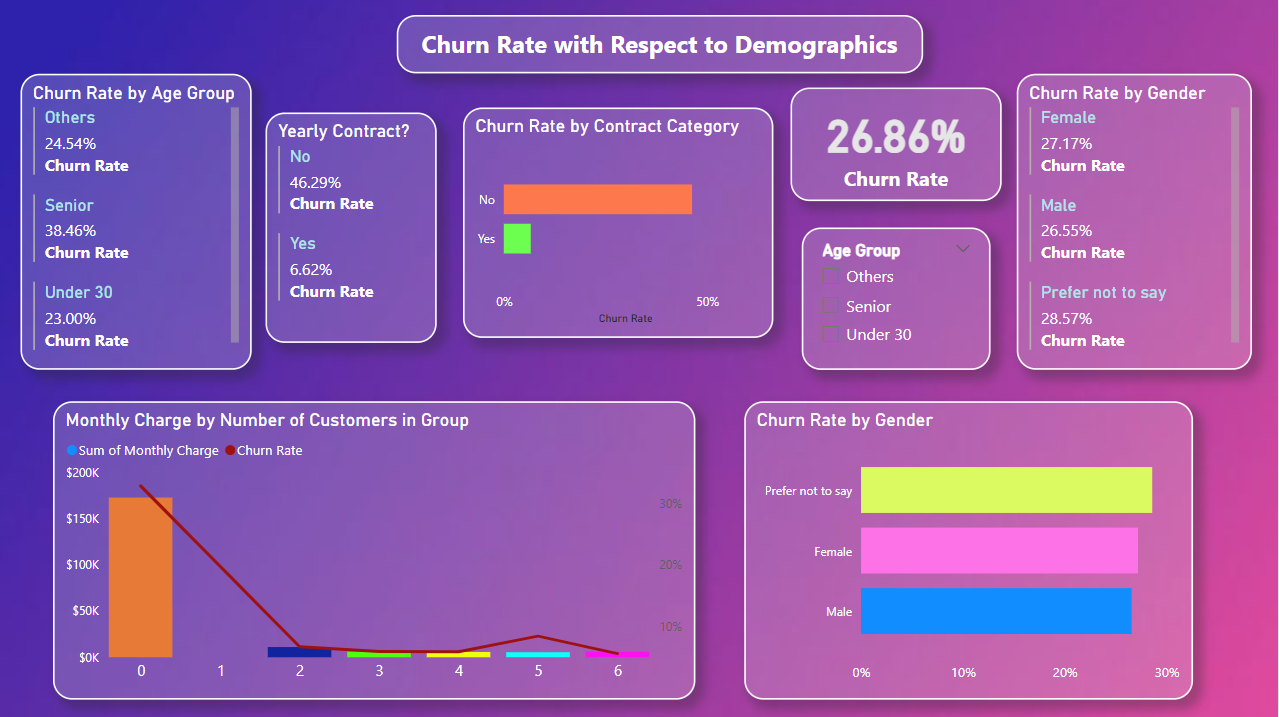

The page's visual inventory and layout, read from the dashboard file:
{"tool":"powerbi","page":{"name":"Demographics","canvas":[1280,720],"ordinal":1},"visuals":[{"type":"slicer","fields":{"Values":["Data.Demagraphic"]},"box":[803.8,227.5,188.8,142.5],"z":0},{"type":"card","fields":{"Values":["Table.Churn Rate"]},"box":[792.5,87.5,211.2,113.8],"z":1000},{"type":"lineStackedColumnComboChart","title":"Monthly Charge by Number of Customers in Group","fields":{"Category":["Data.Number of Customers in Group"],"Y":["Sum(Data.Monthly Charge)"],"Y2":["Table.Churn Rate"]},"box":[55,401.2,642.5,298.8],"z":2000},{"type":"multiRowCard","title":"Yearly Contract?","fields":{"Values":["Data.Contract Category","Table.Churn Rate"]},"box":[267.5,112.5,171.2,230],"z":3000},{"type":"multiRowCard","title":"Churn Rate by Gender","fields":{"Values":["Data.Gender","Table.Churn Rate"]},"box":[1018.8,73.8,235,296.2],"z":4000},{"type":"clusteredBarChart","fields":{"Y":["Table.Churn Rate"],"Category":["Data.Contract Category"]},"box":[465,107.5,310,230],"z":5000},{"type":"clusteredBarChart","fields":{"Y":["Table.Churn Rate"],"Category":["Data.Gender"]},"box":[746.2,401.2,448.8,298.8],"z":6000},{"type":"multiRowCard","title":"Churn Rate by Age Group","fields":{"Values":["Data.Demagraphic","Table.Churn Rate"]},"box":[22.5,73.8,231.2,296.2],"z":7000},{"type":"textbox","box":[398.8,15,526.2,58.8],"z":8000}]}

Visuals, with their boxes in screenshot pixels (x1, y1, x2, y2), scaled from the page's 1280x720 canvas onto the 1279x717 screenshot:
slicer - Data.Demagraphic: l=803, t=227, r=992, b=368
card - Table.Churn Rate: l=792, t=87, r=1003, b=200
"Monthly Charge by Number of Customers in Group" lineStackedColumnComboChart: l=55, t=400, r=697, b=697
"Yearly Contract?" multiRowCard: l=267, t=112, r=438, b=341
"Churn Rate by Gender" multiRowCard: l=1018, t=73, r=1253, b=368
clusteredBarChart - Table.Churn Rate x Data.Contract Category: l=465, t=107, r=774, b=336
clusteredBarChart - Table.Churn Rate x Data.Gender: l=746, t=400, r=1194, b=697
"Churn Rate by Age Group" multiRowCard: l=22, t=73, r=254, b=368
textbox: l=398, t=15, r=924, b=73
